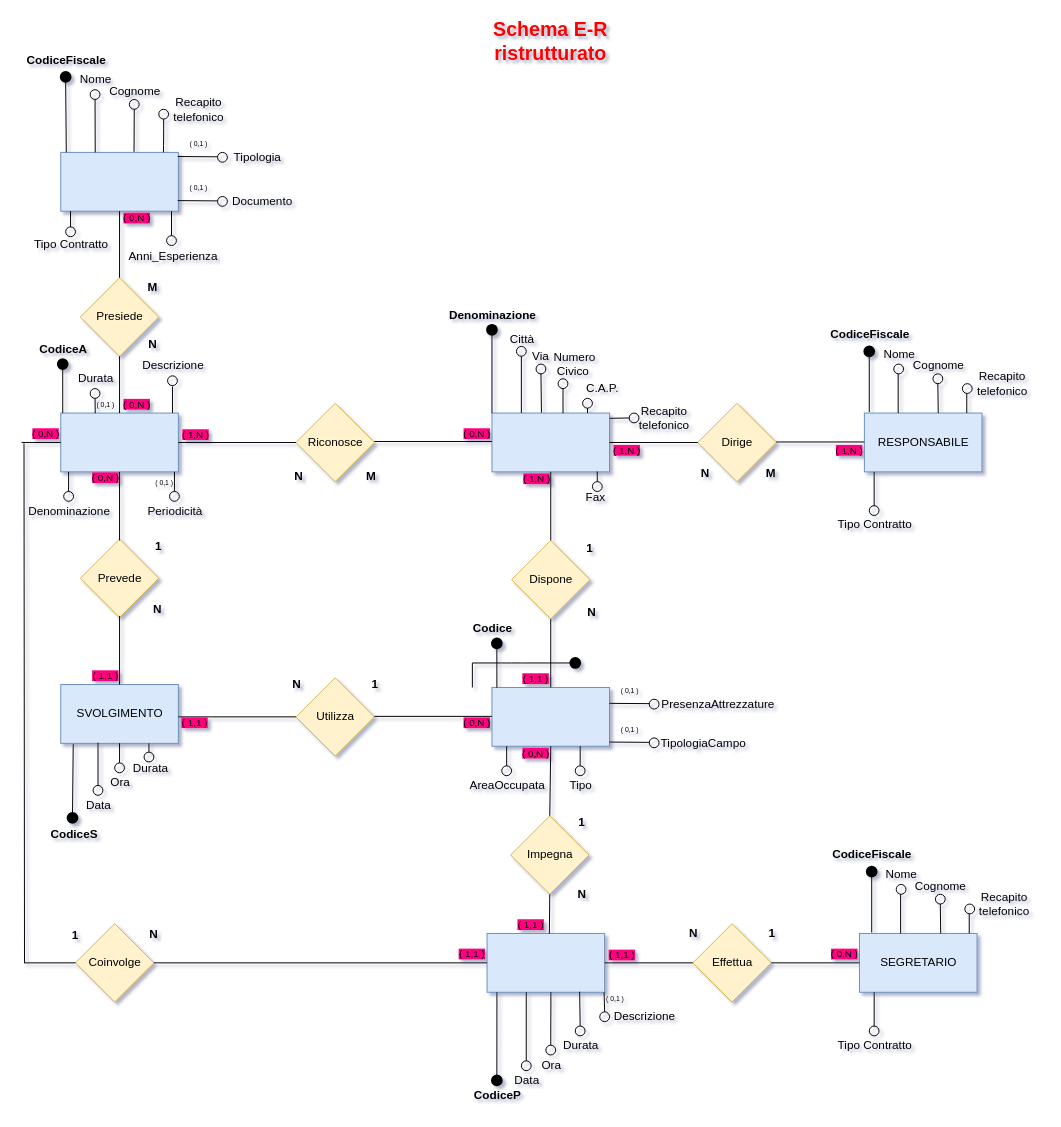
This 1061x1127 diagram has some shape labels left out. Here are the shapes that lost their labels. From the top down, the centre of each, then its label:
the point at 119,181: ISTRUTTORE
the point at 119,442: ATTIVITÀ
the point at 550,442: CENTRO
the point at 550,716: STRUTTURA
the point at 545,962: PRENOTAZIONE
